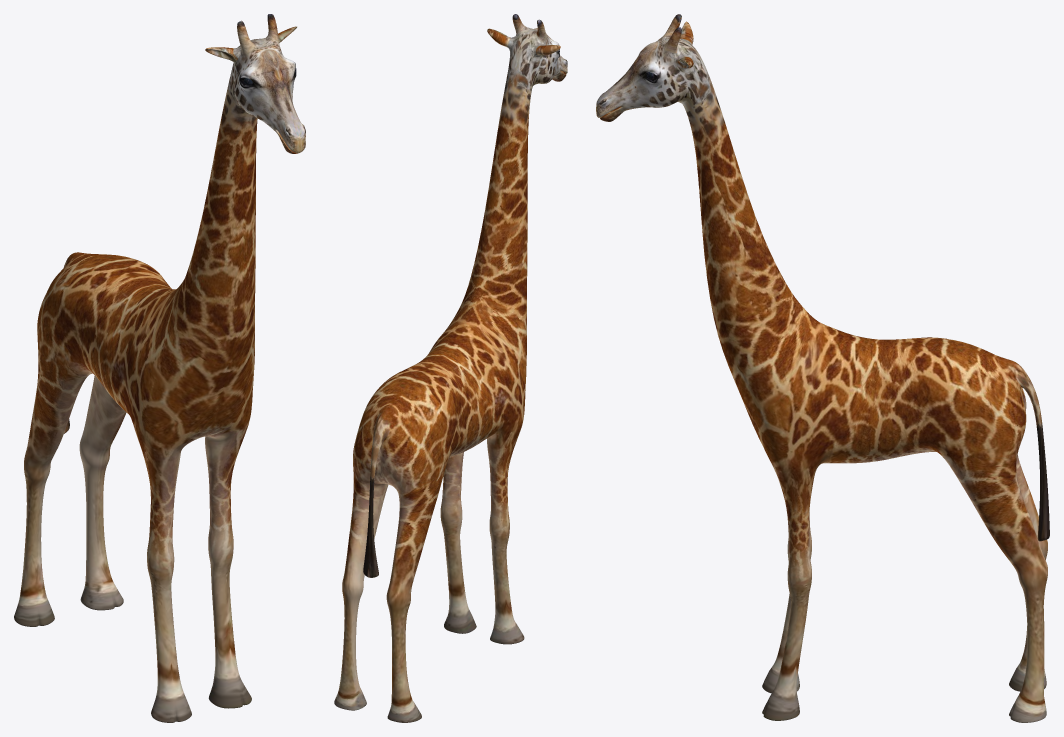
Rendered from jerapah.obj.
3 views of the same model, side by side, from view 1: azimuth 30°, elevation 25°; view 2: azimuth 150°, elevation 25°; view 3: azimuth 270°, elevation 25° (orthographic). The views are drawn at different scales.
Visible parts, largest first — view 1: 10021_Giraffe_v04; view 2: 10021_Giraffe_v04; view 3: 10021_Giraffe_v04.
Part boxes in pixels (x1,y1,x2,y2): 10021_Giraffe_v04: (14, 14, 305, 722); 10021_Giraffe_v04: (334, 14, 567, 722); 10021_Giraffe_v04: (596, 14, 1049, 722).
Bounding box in the file's own units: 0.883 × 5.58 × 3.38.
Materials: 1 (1 with a texture image).
